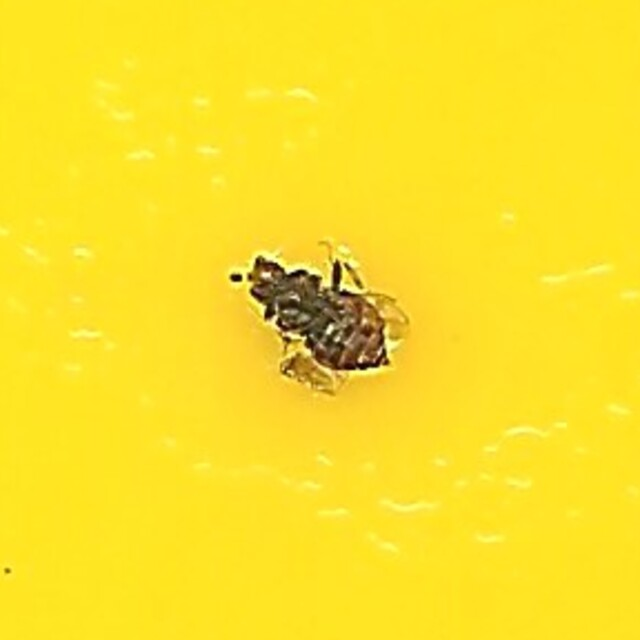Brachycera: (222, 239, 418, 401)
